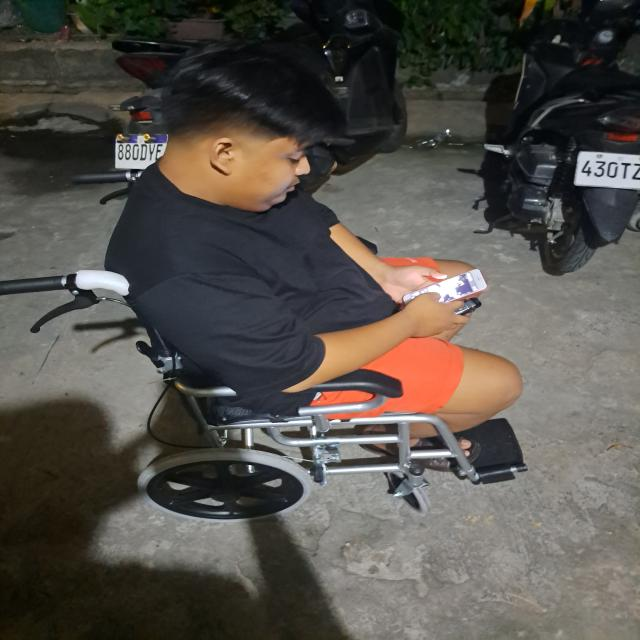wheelchairs: (0, 274, 542, 527)
